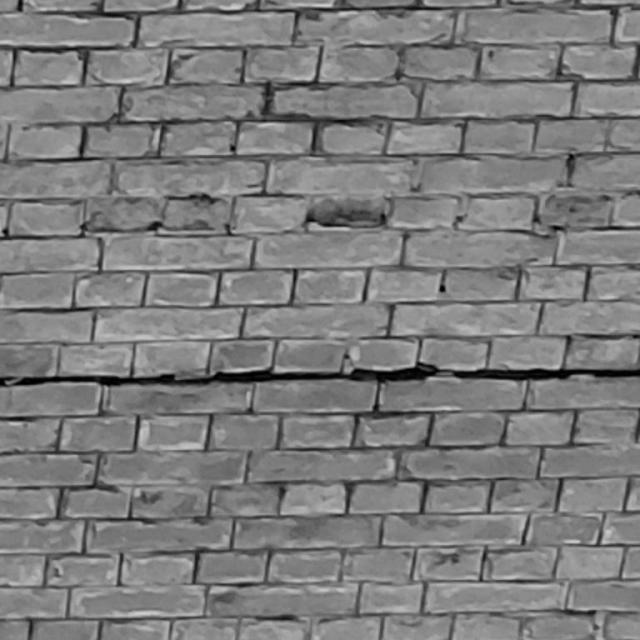crack: (1, 362, 640, 388)
